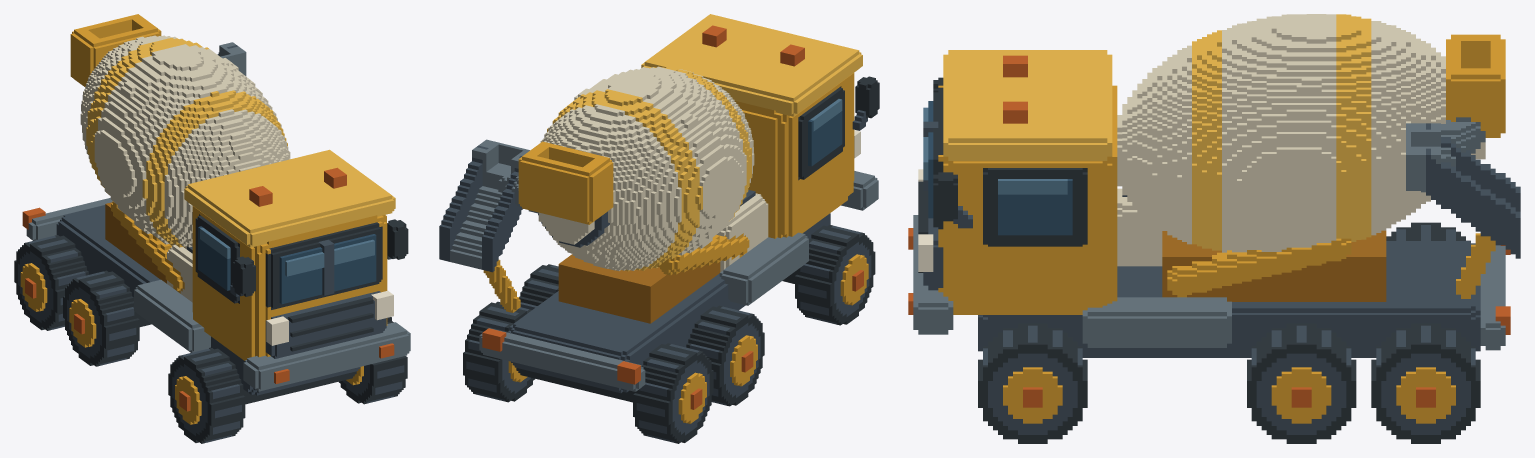
The model's file is concrete_mixer.glb.
The picture shows the model from 3 angles, left to right: view 1: azimuth 30°, elevation 25°; view 2: azimuth 150°, elevation 25°; view 3: azimuth 270°, elevation 25°; orthographic projection. The views are drawn at different scales.
Parts seen in each view (by area): view 1: concrete_mixer; view 2: concrete_mixer; view 3: concrete_mixer.
Boxes of the visible parts, <box> form: concrete_mixer: <box>14,14,410,443</box>; concrete_mixer: <box>439,14,879,443</box>; concrete_mixer: <box>908,14,1520,443</box>.
Bounding box in the file's own units: 3.41 × 4.35 × 6.77.
